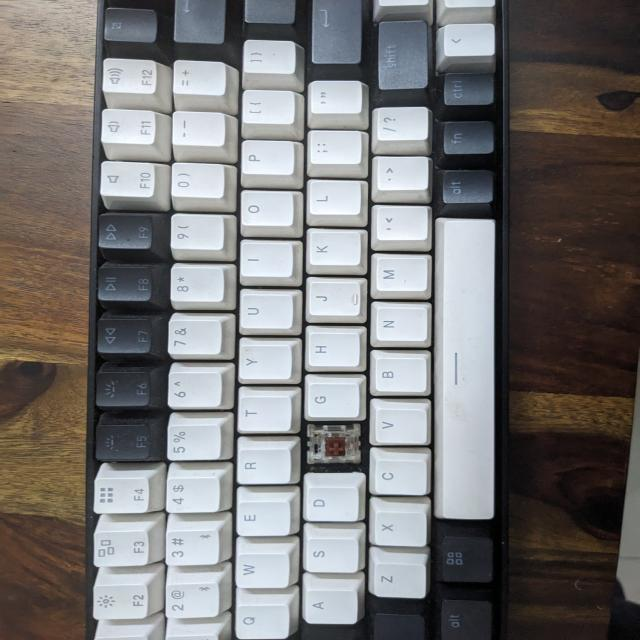C: (305, 421, 365, 472)
